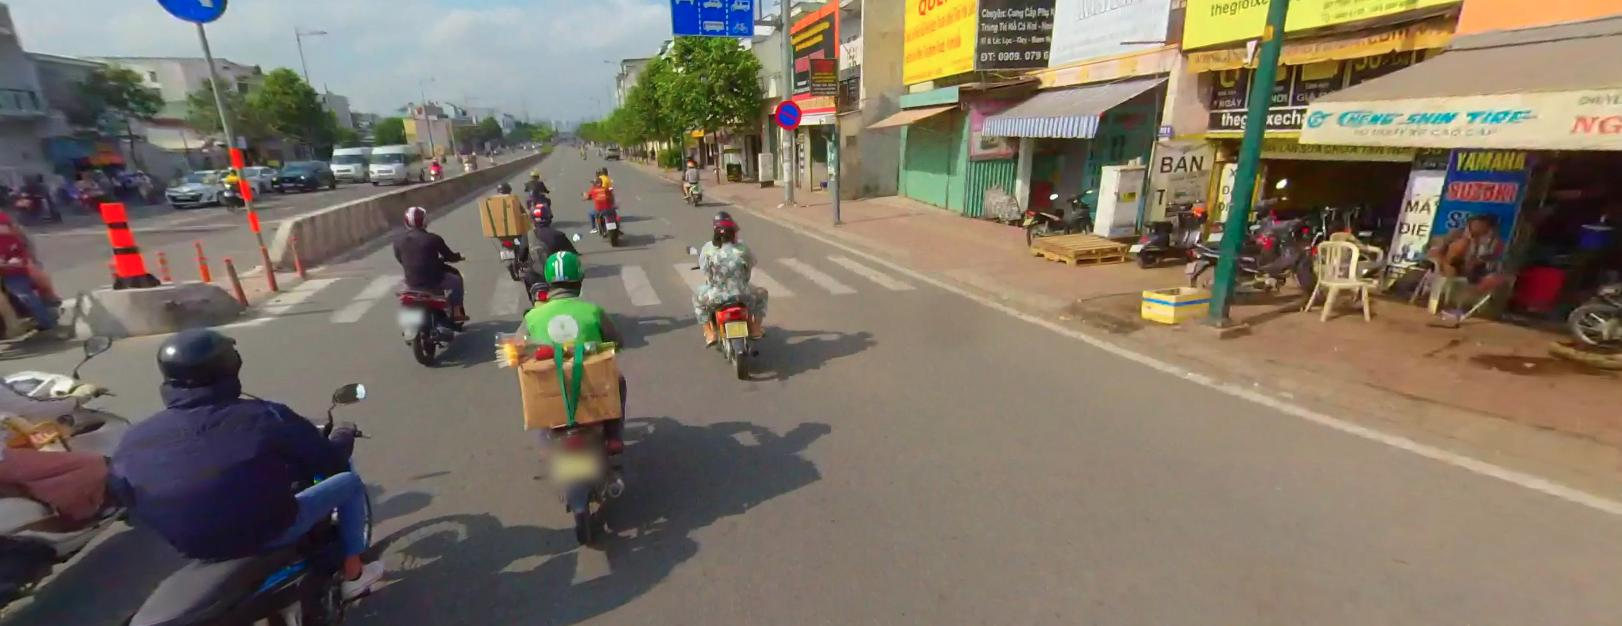Cam dung va do: (774, 100, 802, 128)
Hieu lenh: (154, 1, 228, 25)
